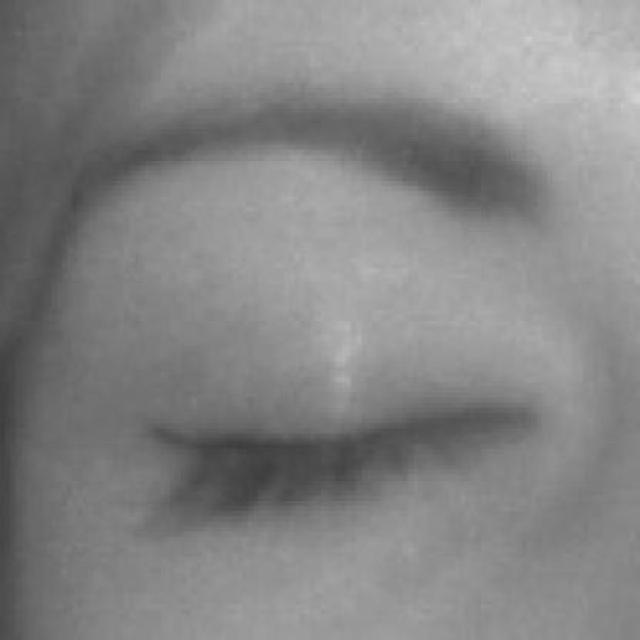drowsy: (128, 268, 542, 635)
